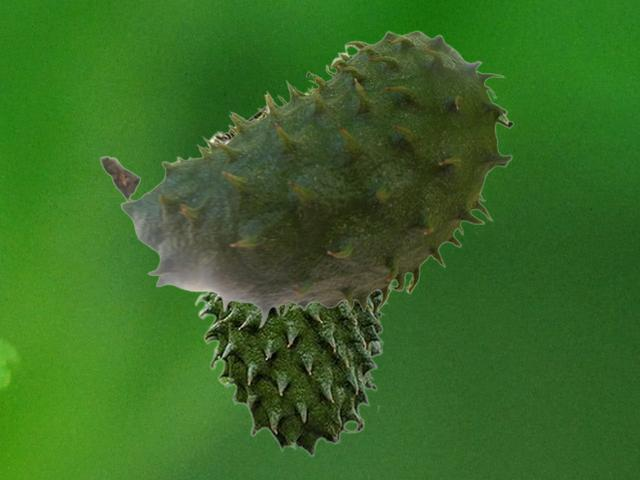guyabano: (99, 30, 513, 328), (192, 104, 390, 456)
